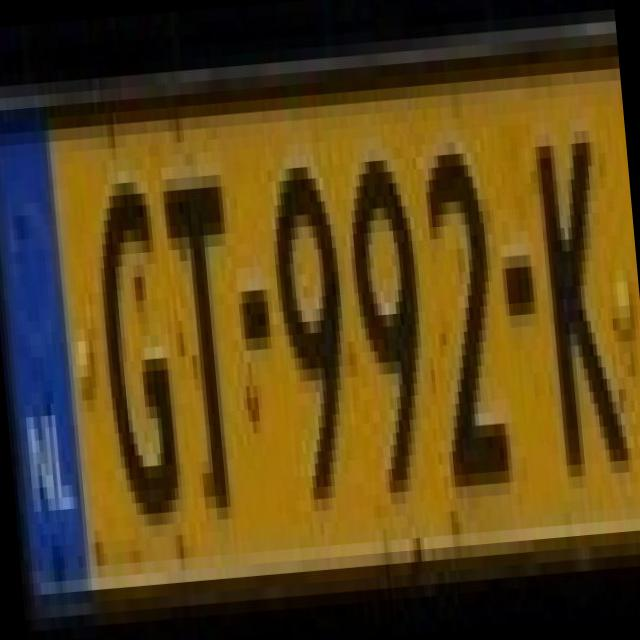2: (401, 114, 521, 488)
9: (324, 122, 444, 496), (249, 128, 361, 502)
G: (75, 143, 187, 518)
K: (502, 93, 632, 468)
T: (144, 138, 256, 512)
